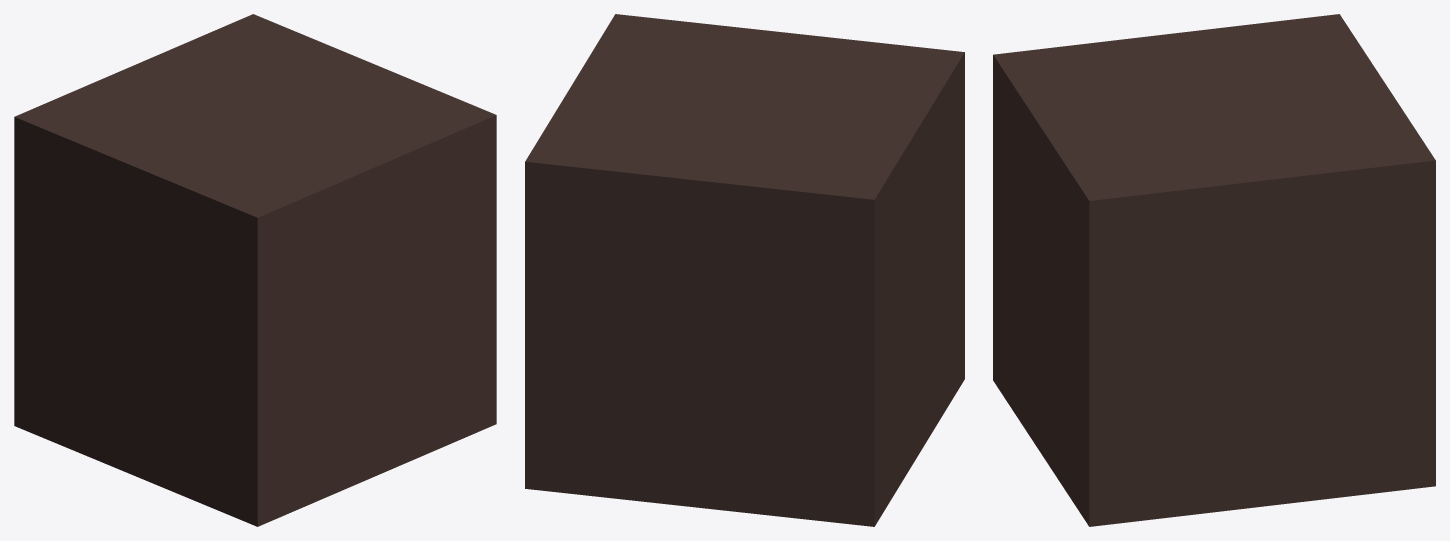
The model's file is nomoreforest_box.glb.
3 renders of one model, left to right at view 1: azimuth 30°, elevation 25°; view 2: azimuth 150°, elevation 25°; view 3: azimuth 270°, elevation 25°, orthographic. The views are drawn at different scales.
Parts seen in each view (by area): view 1: 立方体; view 2: 立方体; view 3: 立方体.
Part boxes in pixels (x1,y1,x2,y2): 立方体: (14, 14, 496, 526); 立方体: (525, 14, 964, 526); 立方体: (993, 14, 1435, 526).
Bounding box in the file's own units: 2.92 × 2.37 × 2.92.
